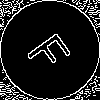F: (25, 25, 80, 77)
